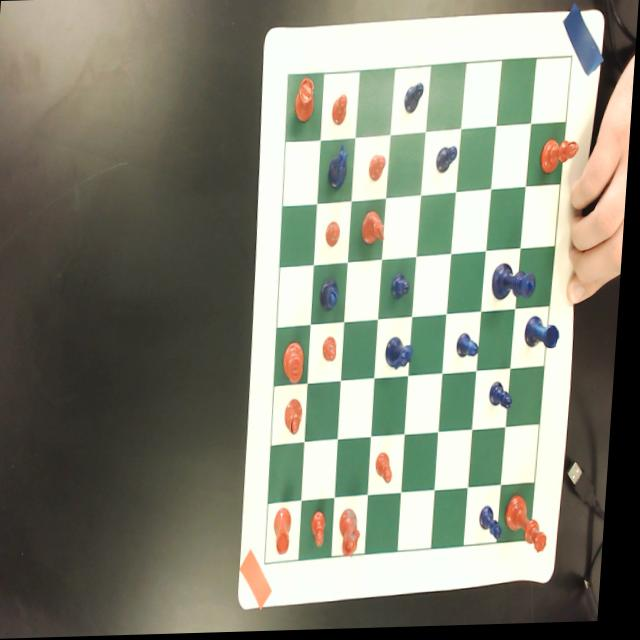B: (322, 278, 343, 314)
K: (494, 263, 540, 303)
N: (388, 337, 418, 373), (329, 143, 350, 191)
P: (485, 507, 511, 544), (492, 382, 519, 416), (404, 80, 426, 116), (437, 144, 459, 177), (393, 274, 415, 302), (460, 335, 483, 361)
R: (527, 317, 565, 353)
b: (541, 140, 581, 176), (288, 401, 308, 437)
k: (285, 342, 310, 385)
n: (344, 508, 368, 561), (363, 210, 389, 248)
p: (316, 511, 334, 550), (380, 454, 400, 487), (332, 95, 350, 128), (369, 156, 388, 184), (327, 223, 343, 250), (326, 337, 341, 363)
q: (511, 495, 556, 556)
r: (293, 78, 319, 125), (278, 507, 299, 559)
